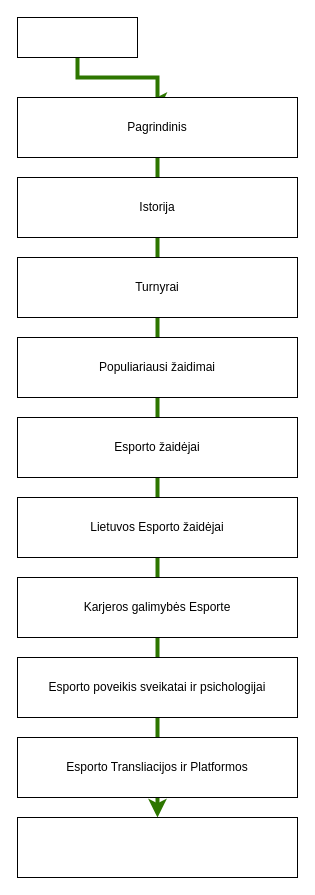
The diagram is 315 pixels wide and 895 high, and some of its shapes have lost their labels. Each missing label, with the centre of its shape:
"Meniu" belongs at (77,37).
"Terminai" belongs at (157,847).
